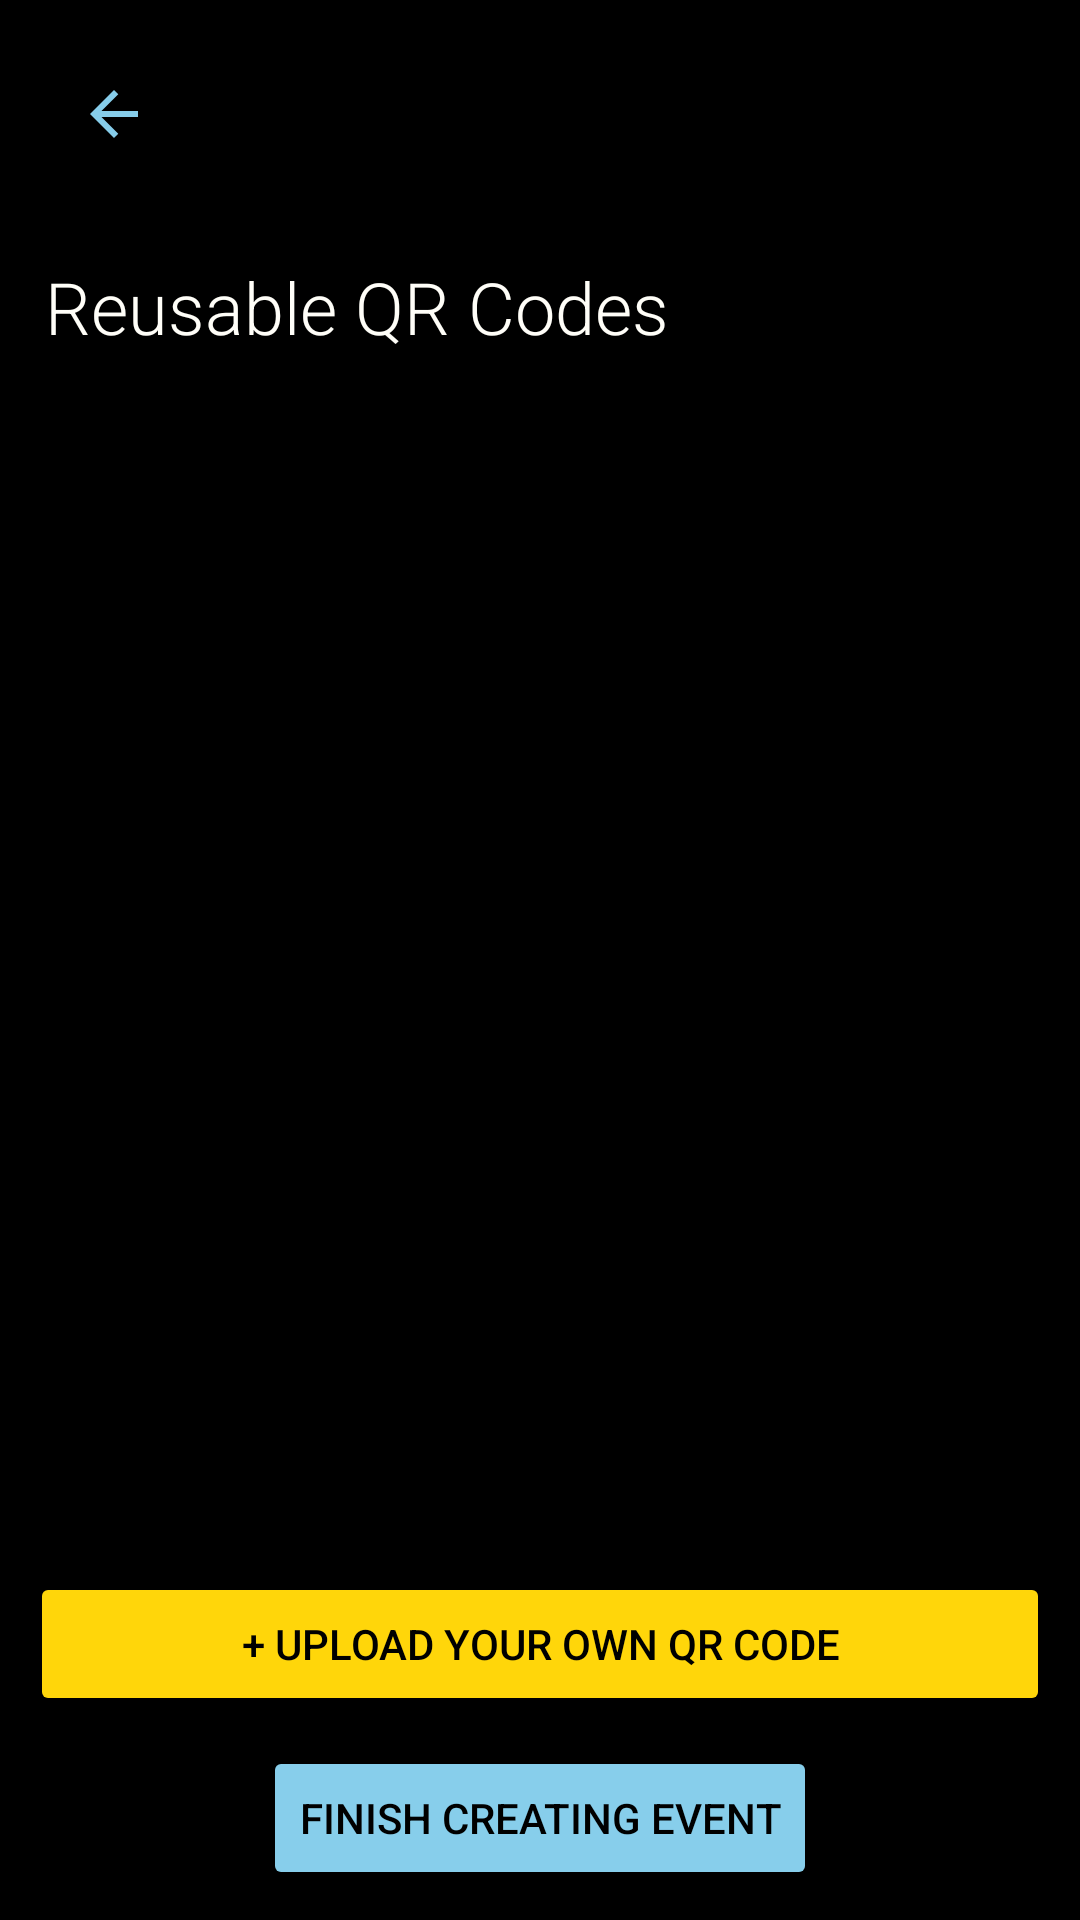

Locate icon controls on the screen. Image size 1080*1920, boxes as (x1, y1, x2, y2).
arrow back: (90, 90, 138, 138)
